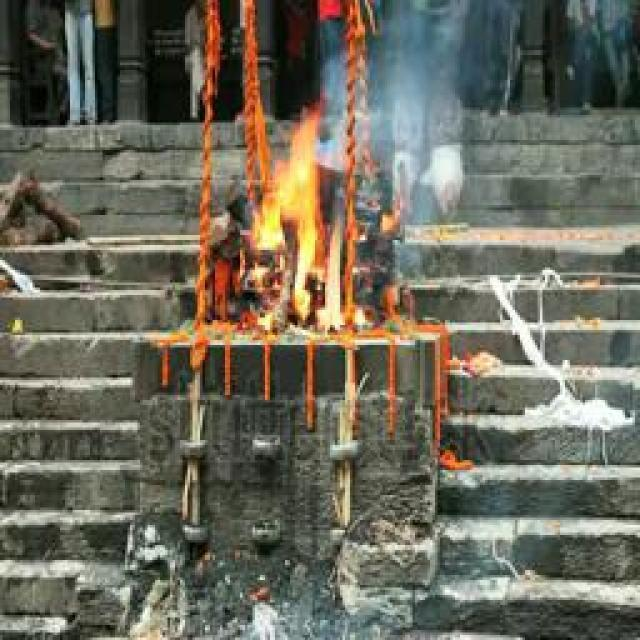Fire: (253, 120, 354, 331)
